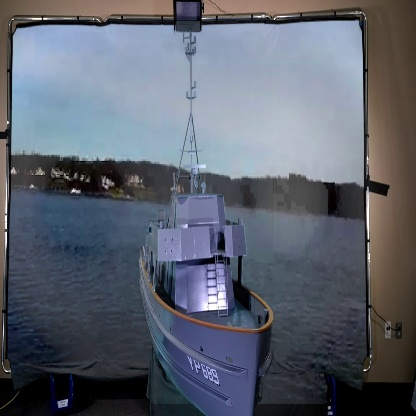YP689: (140, 31, 276, 416)
